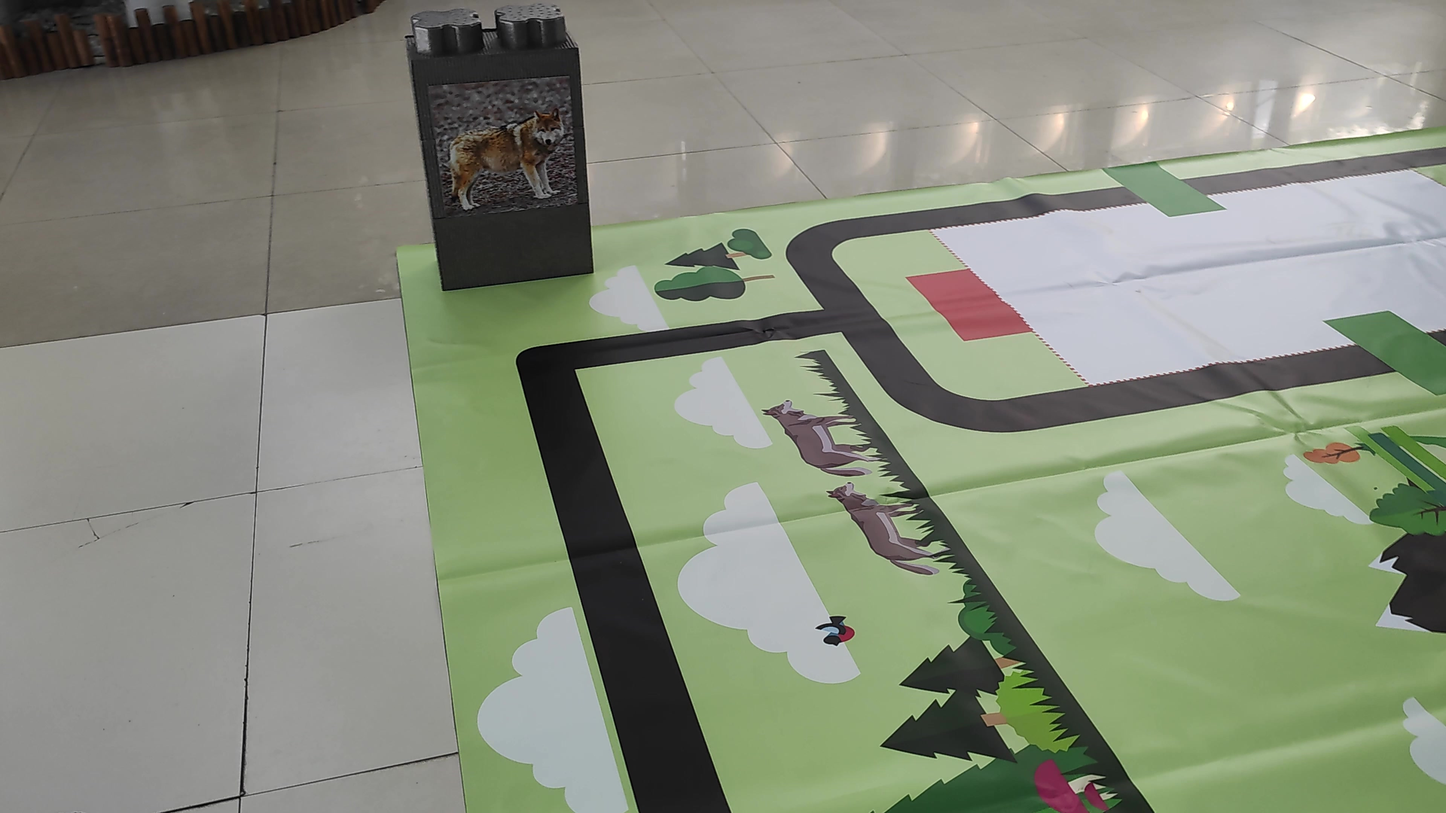wolf: (433, 86, 574, 215)
